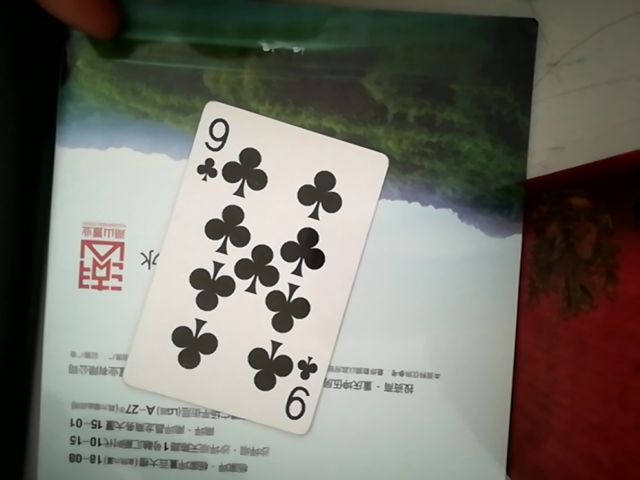mh 9: (129, 94, 385, 441)
